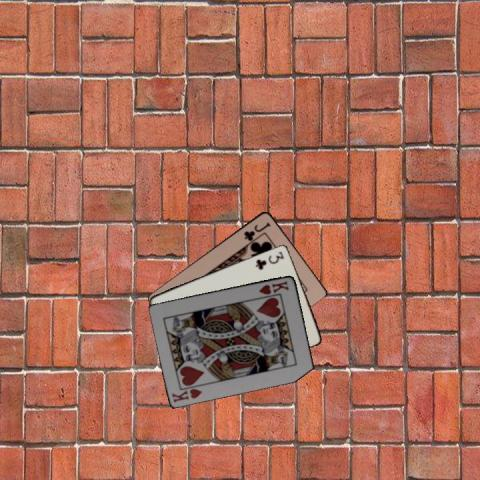3c: (253, 248, 285, 271)
Jc: (241, 219, 271, 241)
Kh: (256, 278, 290, 296), (170, 386, 204, 404)
